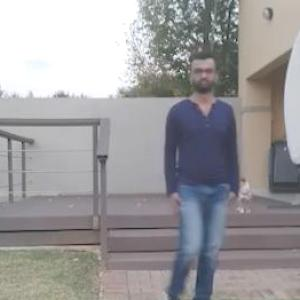follow: (149, 48, 241, 299)
